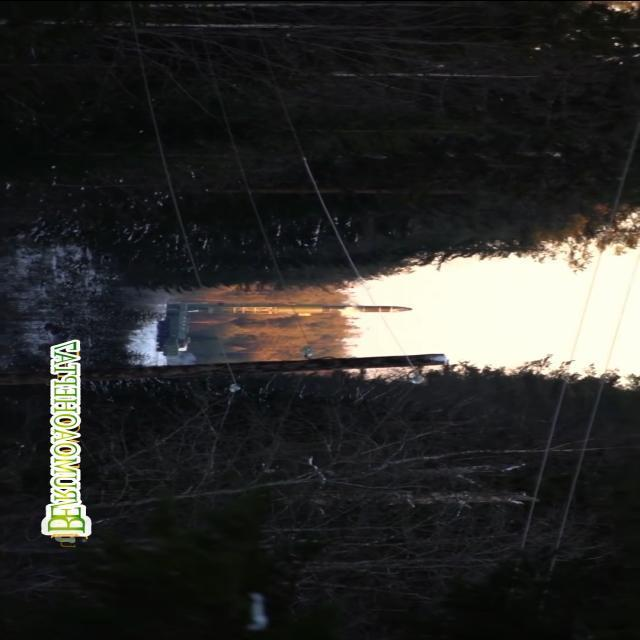Missile: (176, 298, 427, 314)
